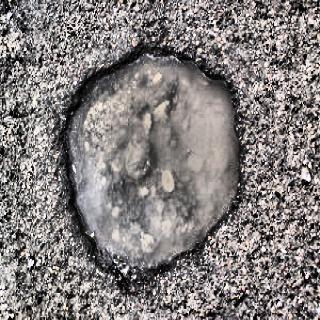pothole: (58, 40, 248, 282)
